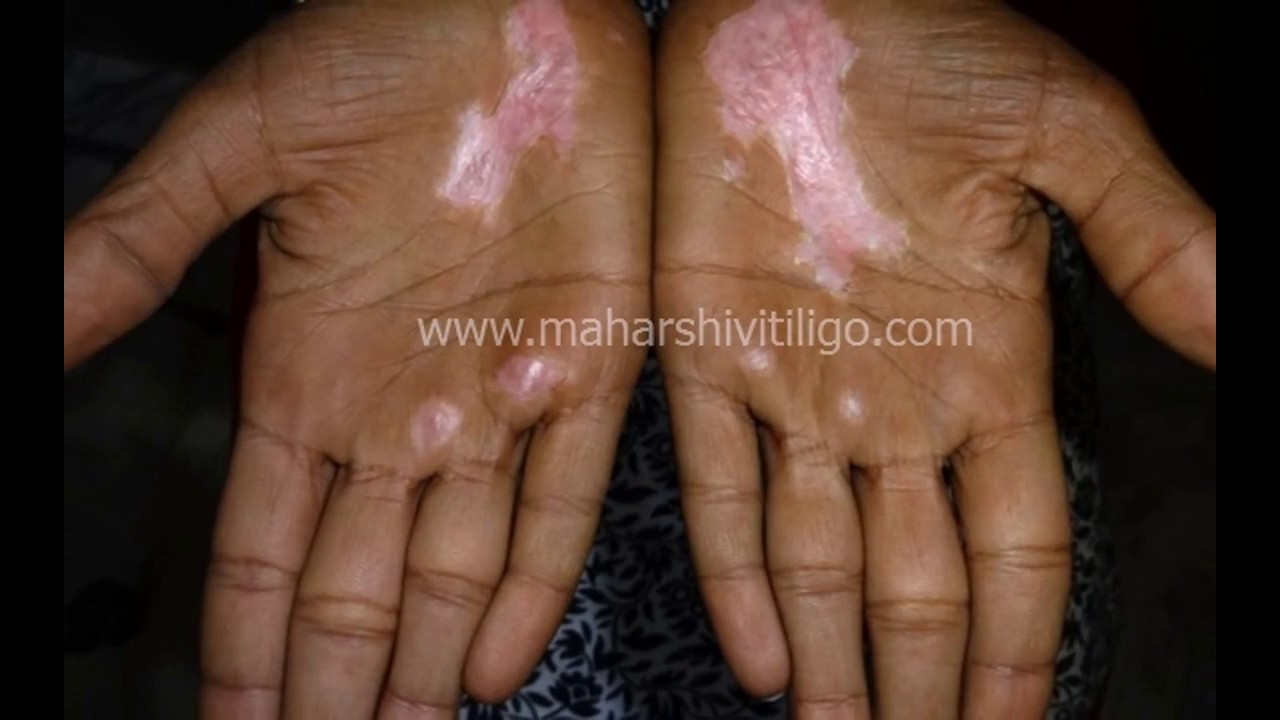Diseased: (384, 11, 916, 317)
